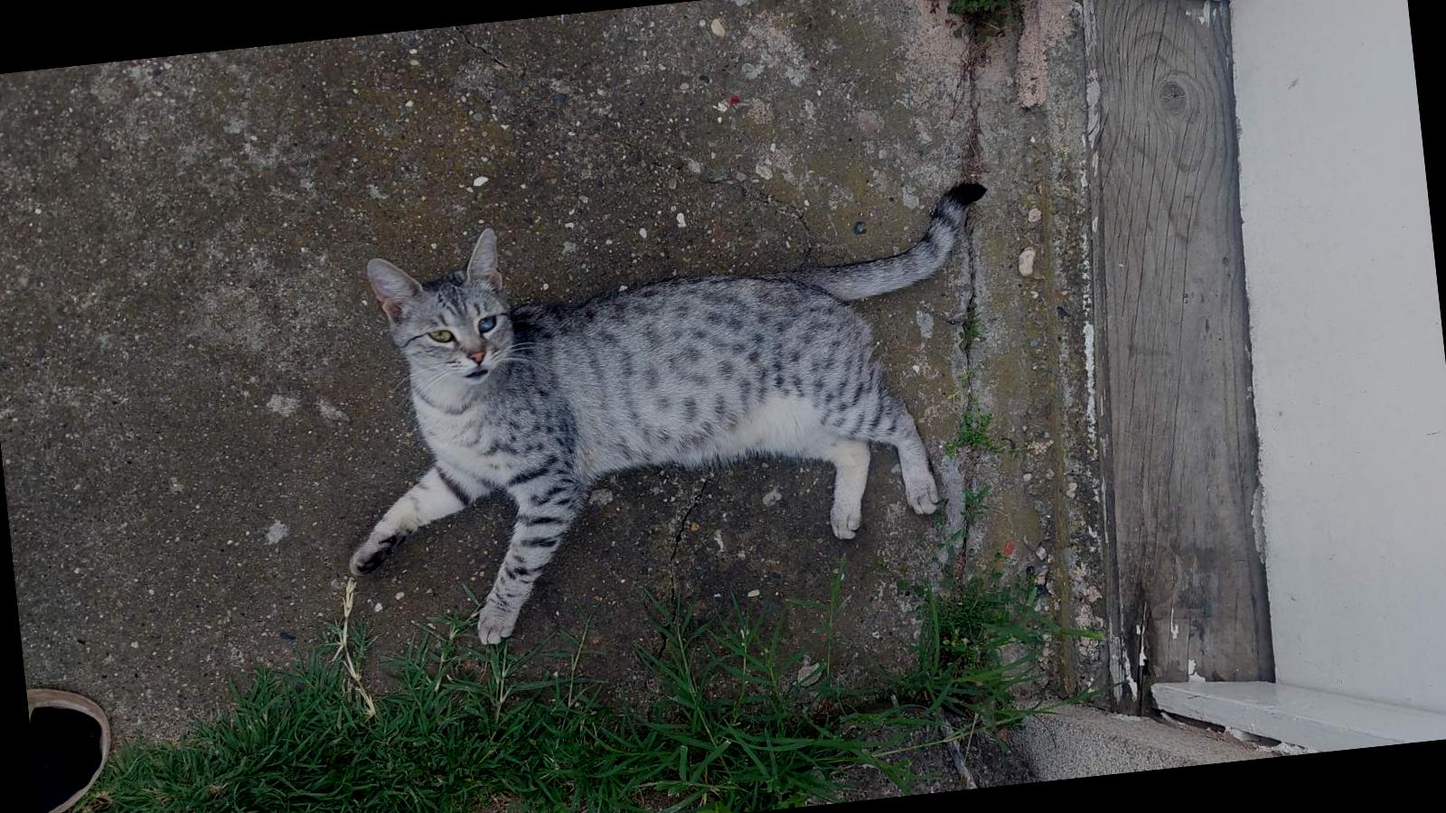macka: (311, 176, 1028, 662)
